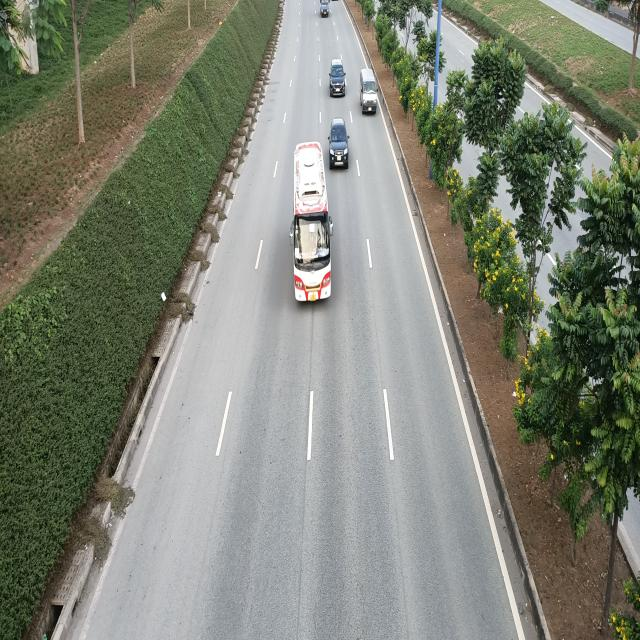car: (329, 118, 352, 168), (330, 61, 348, 98)
coach: (291, 142, 333, 302)
van: (358, 68, 378, 114)
